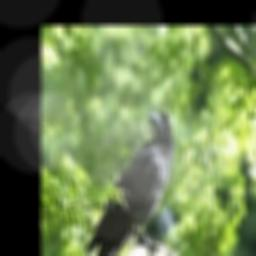Crow: (84, 107, 174, 256)
